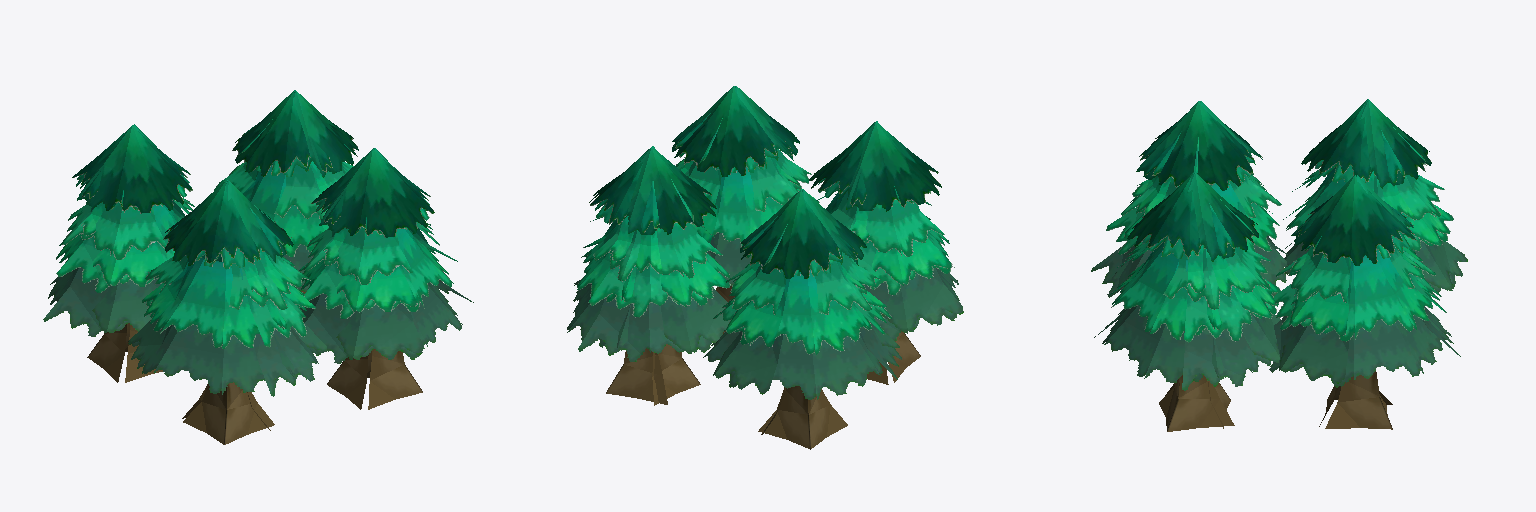
The picture shows the model from 3 angles: view 1: azimuth 30°, elevation 25°; view 2: azimuth 150°, elevation 25°; view 3: azimuth 270°, elevation 25°; orthographic projection.
Parts seen in each view (by area): view 1: trees_bottom_trees_bottom_chip_wood_a; view 2: trees_bottom_trees_bottom_chip_wood_a; view 3: trees_bottom_trees_bottom_chip_wood_a.
Part boxes in pixels (bbox=[...]): trees_bottom_trees_bottom_chip_wood_a: bbox=[43, 90, 473, 444]; trees_bottom_trees_bottom_chip_wood_a: bbox=[567, 86, 963, 449]; trees_bottom_trees_bottom_chip_wood_a: bbox=[1091, 99, 1467, 431].
Bounding box in the file's own units: 1.41 × 0.94 × 1.39.
Materials: 2 (1 with a texture image).